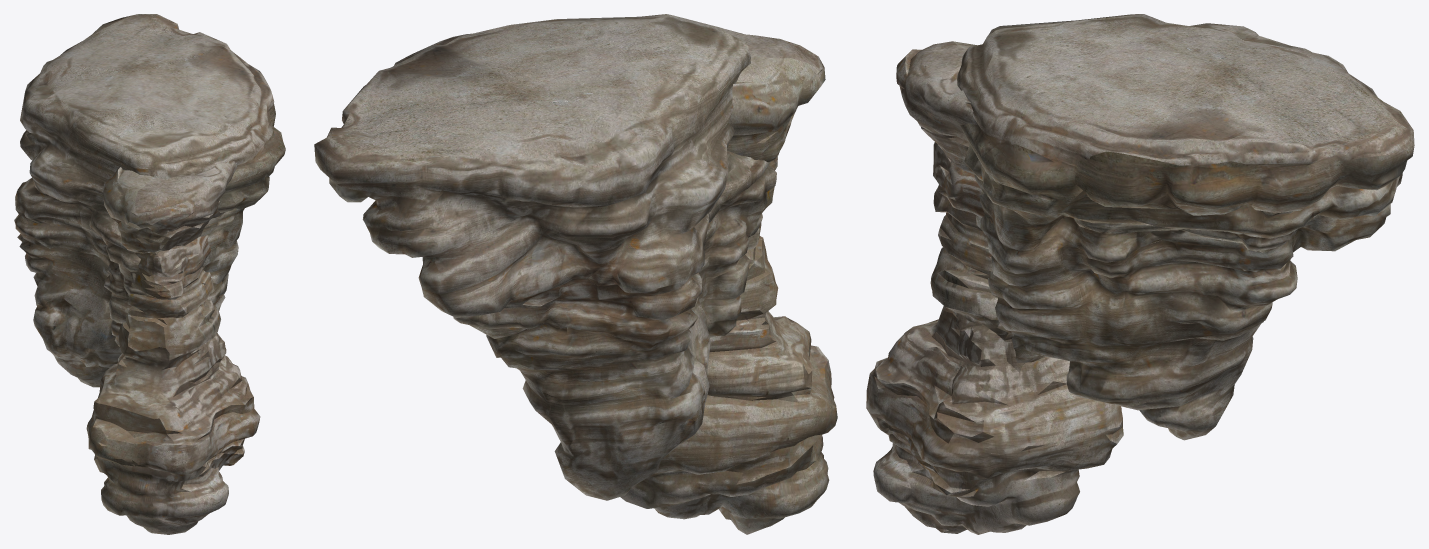
File: Rock3.glb
3 renders of one model, left to right at view 1: azimuth 30°, elevation 25°; view 2: azimuth 150°, elevation 25°; view 3: azimuth 270°, elevation 25°, orthographic. The views are drawn at different scales.
Parts seen in each view (by area): view 1: north_rock_LOD1_LOD1_LOD1_LOD004_Material #5544_0; view 2: north_rock_LOD1_LOD1_LOD1_LOD004_Material #5544_0; view 3: north_rock_LOD1_LOD1_LOD1_LOD004_Material #5544_0.
Boxes of the visible parts, x1,y1,x2,y2 form: north_rock_LOD1_LOD1_LOD1_LOD004_Material #5544_0: (14,14,285,534); north_rock_LOD1_LOD1_LOD1_LOD004_Material #5544_0: (314,14,837,534); north_rock_LOD1_LOD1_LOD1_LOD004_Material #5544_0: (866,14,1414,534).
Bounding box in the file's own units: 2.2 × 3.15 × 3.1.
2 materials, 2 textured.
